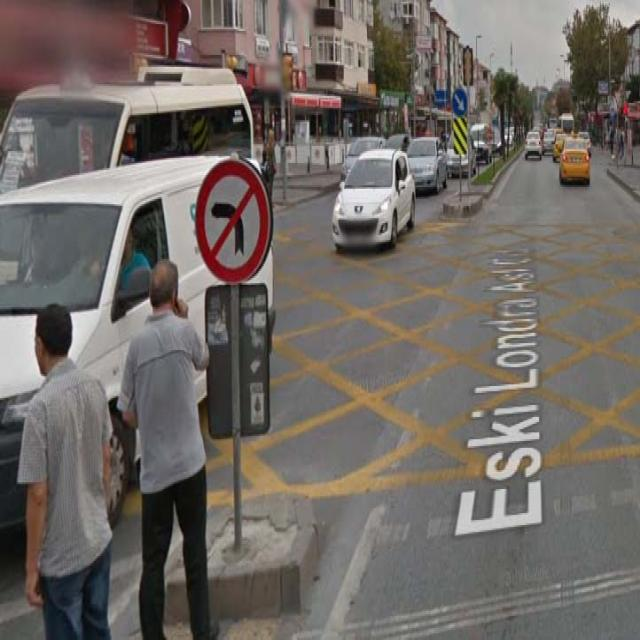soladonulmez: (195, 160, 269, 280)
